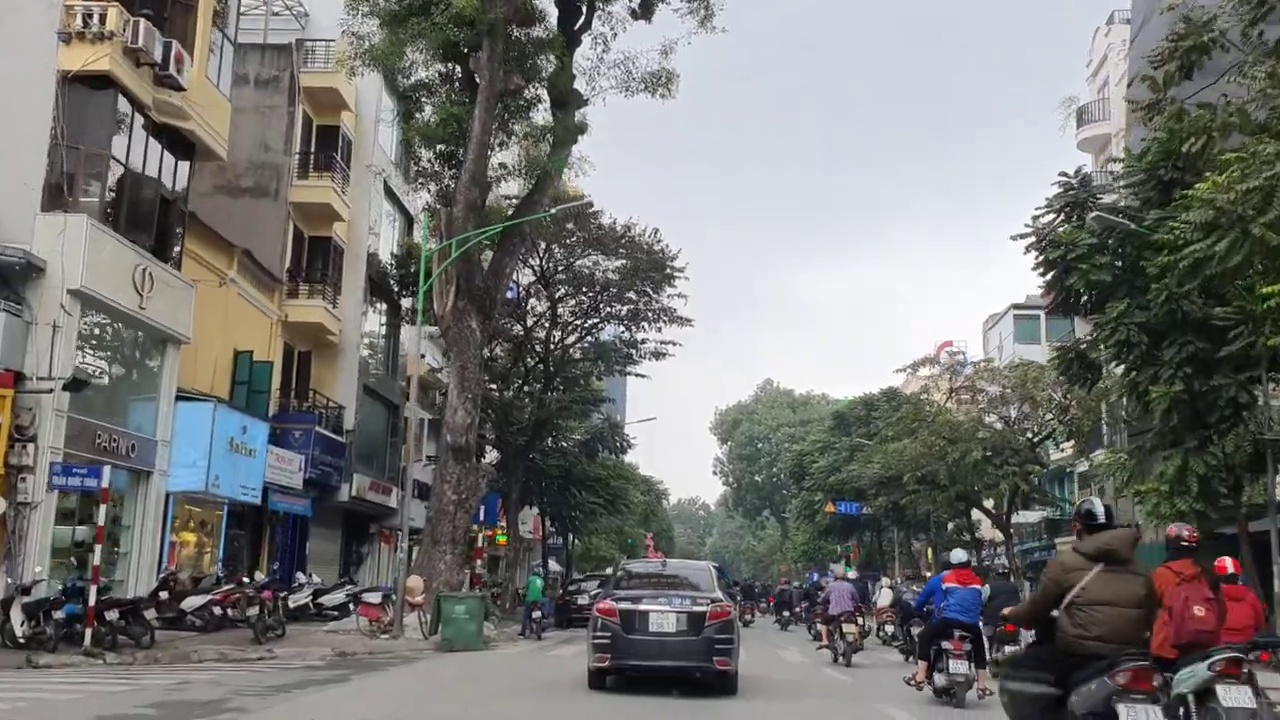person: (98, 607, 122, 621), (141, 604, 161, 619), (47, 609, 67, 619)
